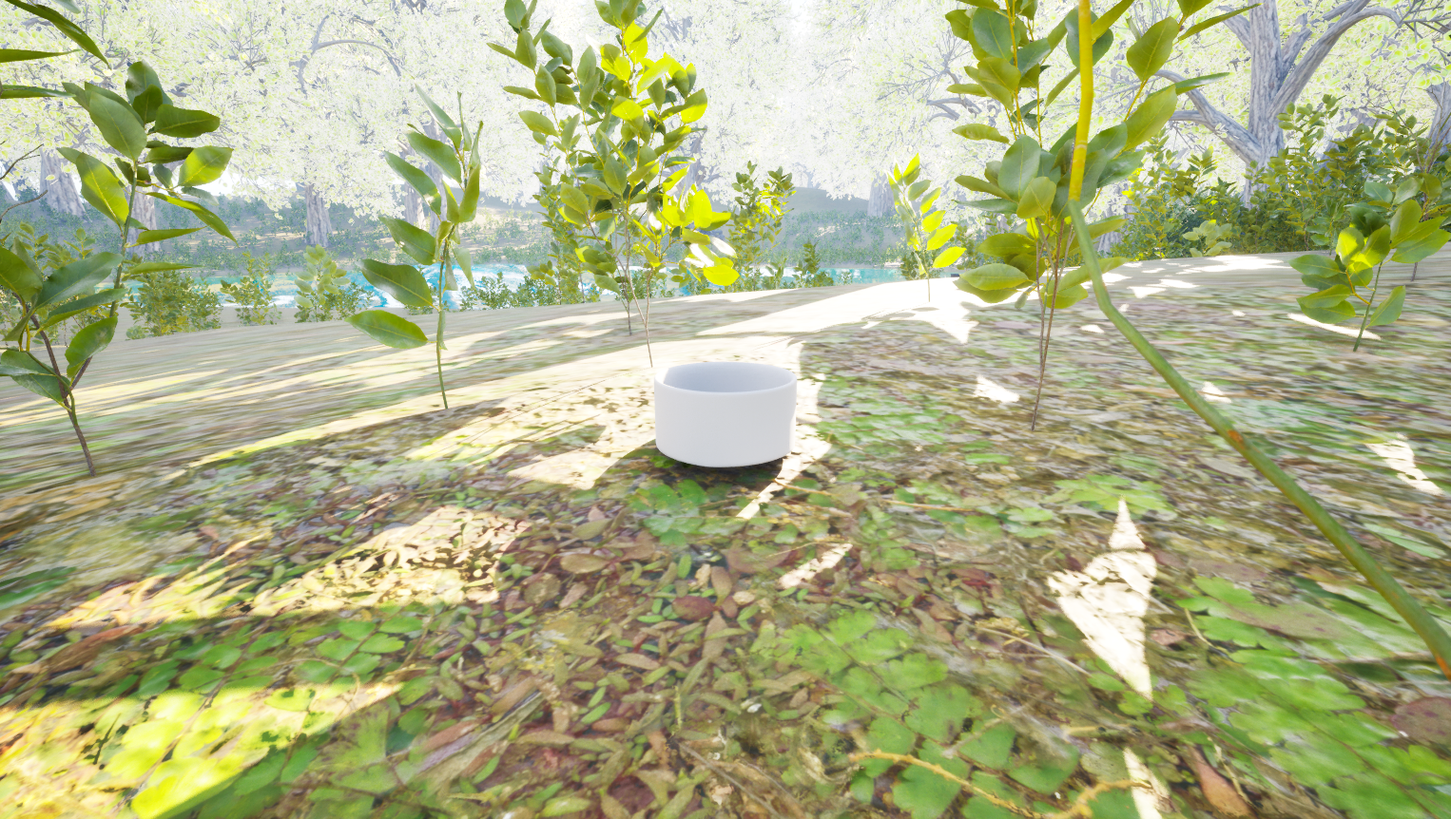Teacup: (632, 355, 806, 474)
